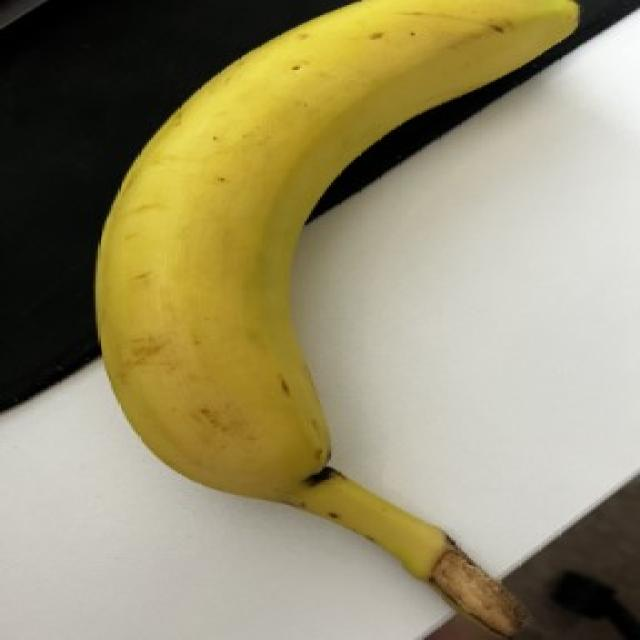Ripe: (80, 0, 607, 637)
